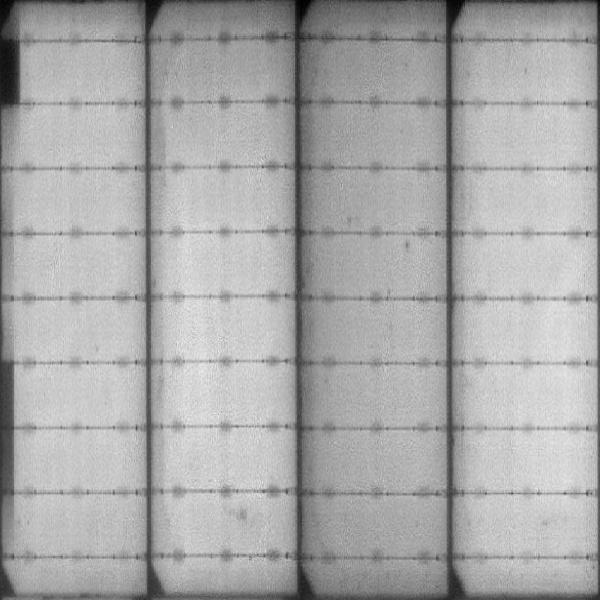black_border: (1, 351, 18, 497), (1, 36, 23, 115)
